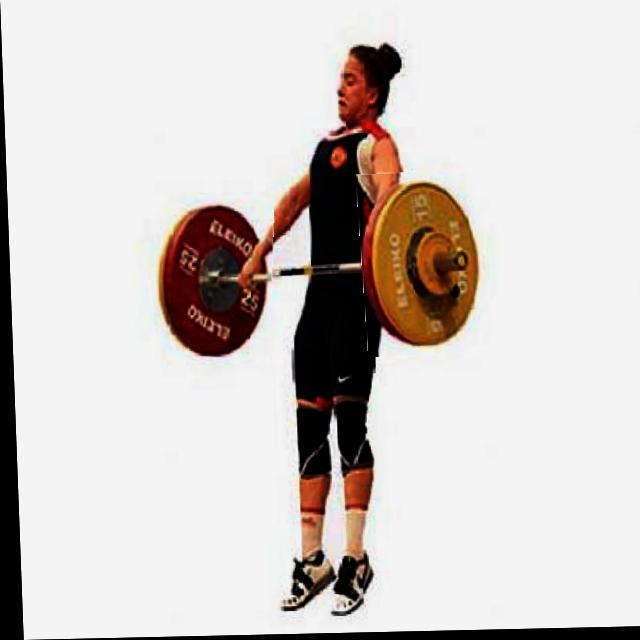barbell: (357, 172, 489, 359), (148, 196, 275, 367)
